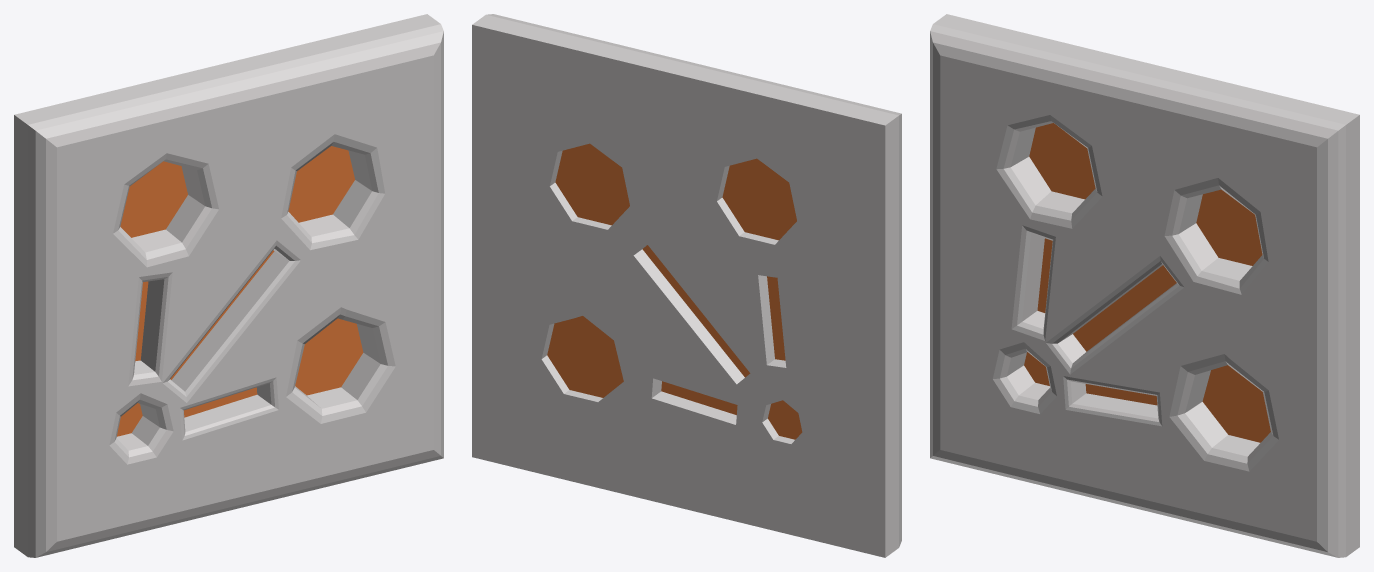
The model's file is Attack03.fbx.
3 renders of one model, left to right at view 1: azimuth 30°, elevation 25°; view 2: azimuth 150°, elevation 25°; view 3: azimuth 330°, elevation 25°, orthographic.
Parts seen in each view (by area): view 1: Attack03; view 2: Attack03; view 3: Attack03.
Boxes of the visible parts, x1=… form: Attack03: x1=14, y1=14, x2=443, y2=557; Attack03: x1=472, y1=14, x2=901, y2=557; Attack03: x1=930, y1=14, x2=1359, y2=557.
Bounding box in the file's own units: 200 × 200 × 20.65.
